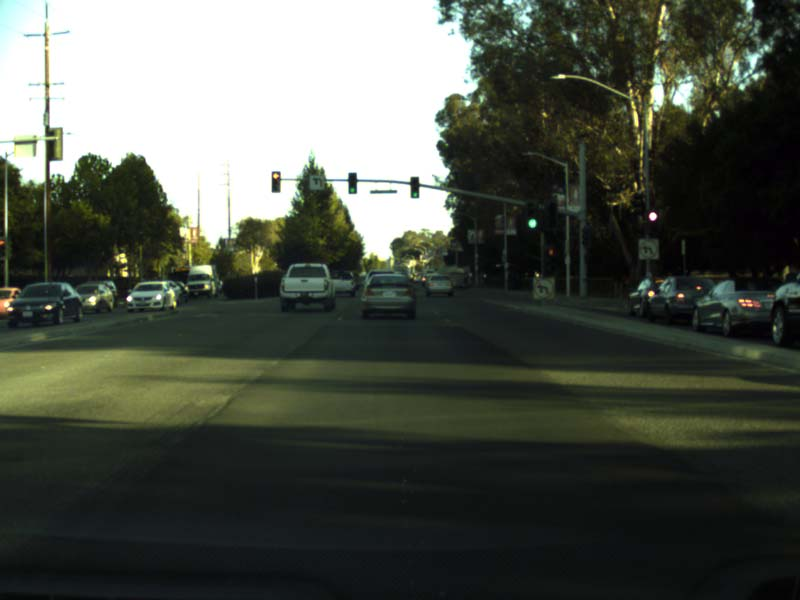Green: (524, 200, 538, 230), (410, 175, 419, 198), (347, 172, 356, 194)
Red: (270, 171, 281, 193), (646, 210, 657, 222), (547, 248, 554, 255)
